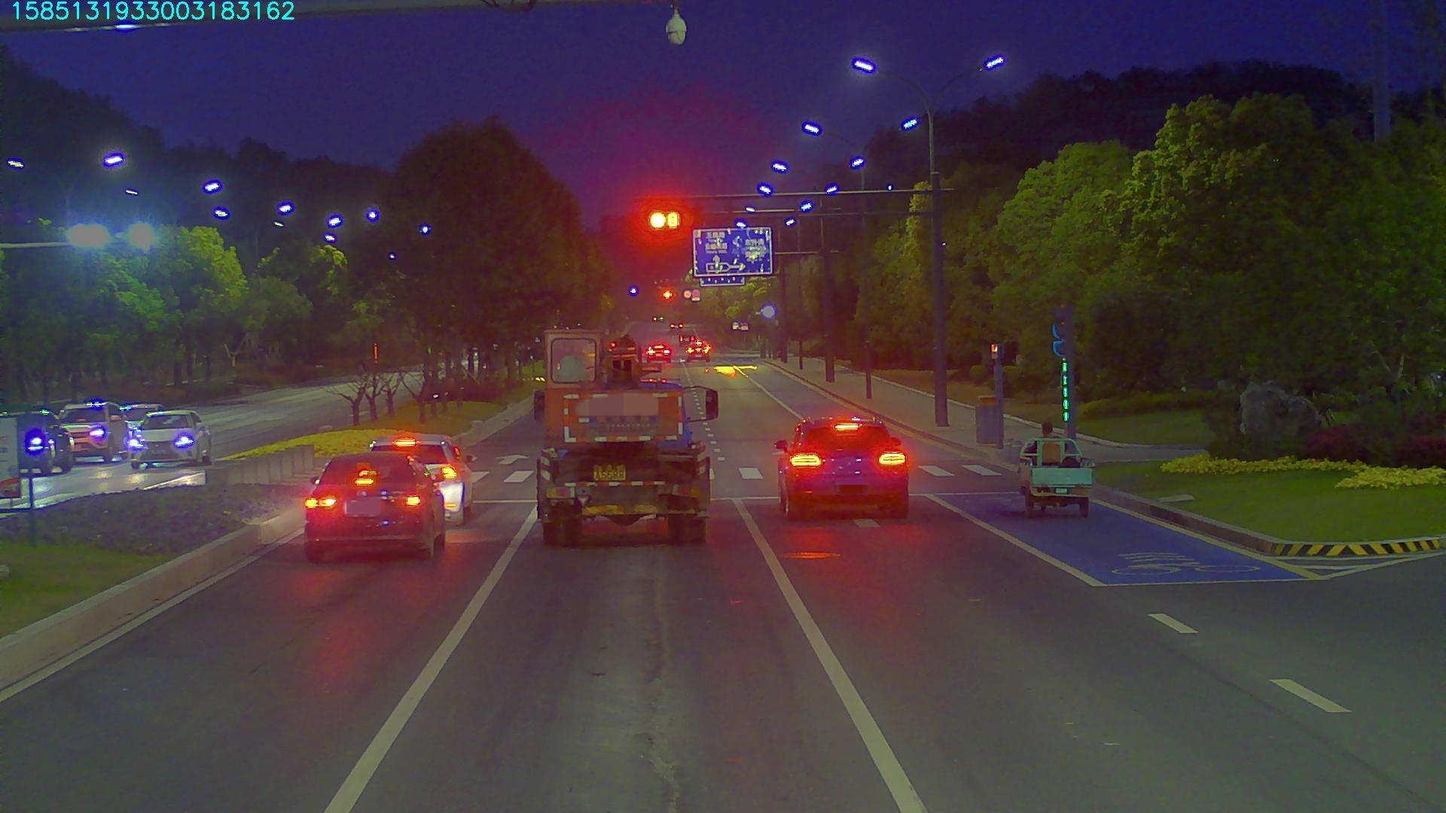red: (648, 206, 682, 229)
